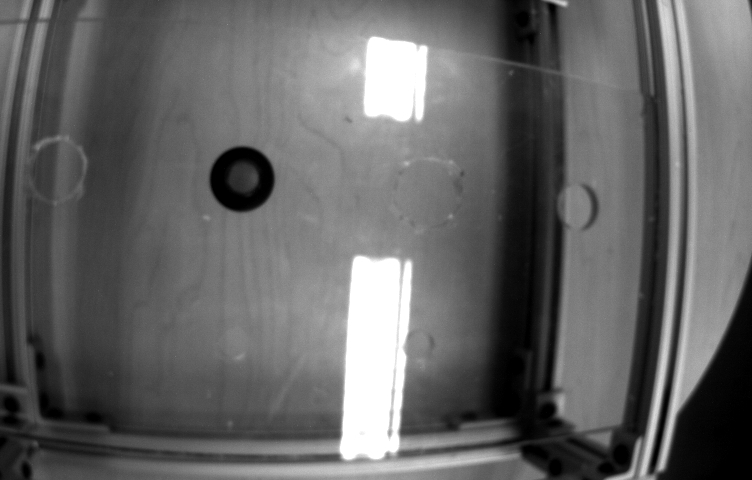small_red_button: (188, 136, 290, 218)
